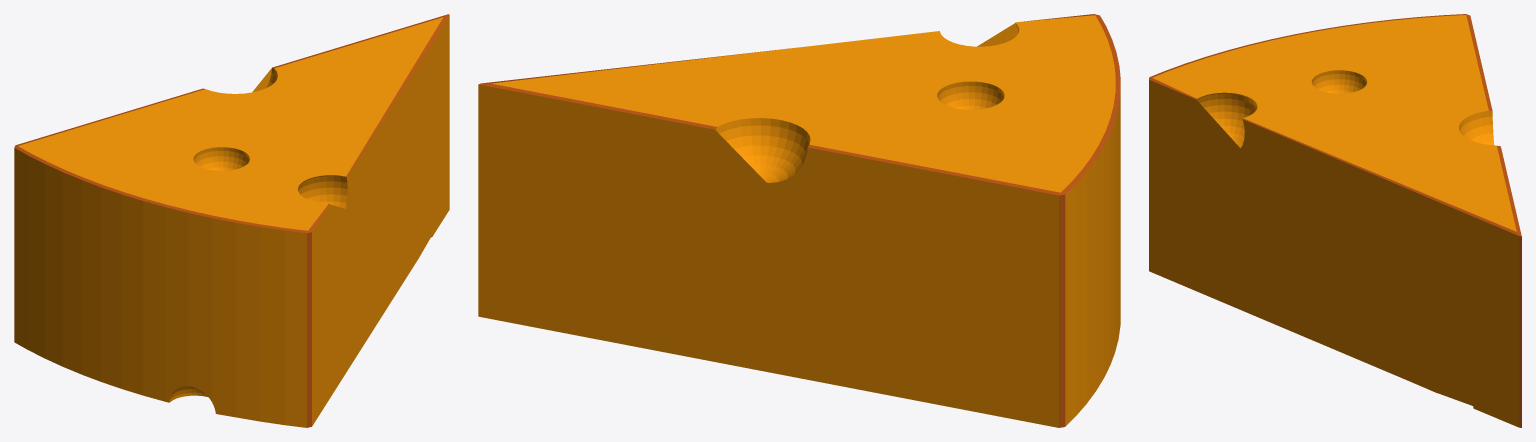
The model's file is cheese.fbx.
3 renders of one model, left to right at view 1: azimuth 30°, elevation 25°; view 2: azimuth 150°, elevation 25°; view 3: azimuth 270°, elevation 25°, orthographic. The views are drawn at different scales.
Parts seen in each view (by area): view 1: Cylindre; view 2: Cylindre; view 3: Cylindre.
Part boxes in pixels (box(x1,y1,x2,y2)): Cylindre: box(14, 14, 449, 427); Cylindre: box(478, 14, 1120, 427); Cylindre: box(1149, 14, 1521, 427).
Size of the model in its own units: 345 by 140 by 244.
